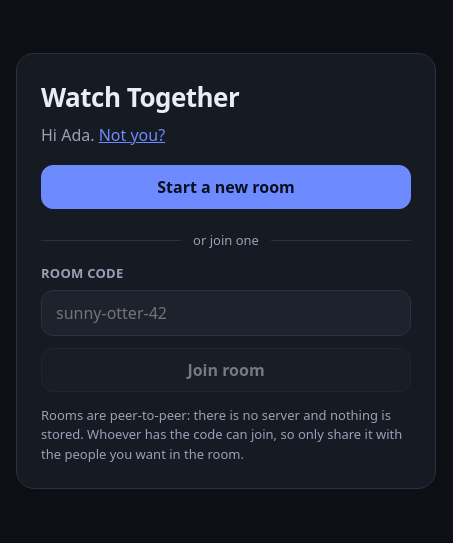
Test: App flow › rejects a malformed room code
Type "xy" into the field labelled "Room code".
click(226, 313); type("xy")  # box [41, 290, 411, 336]
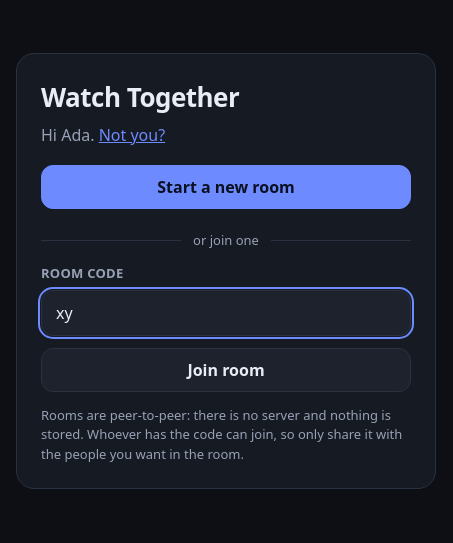
Click the button "Join room".
click(226, 370)  # box [41, 348, 411, 392]
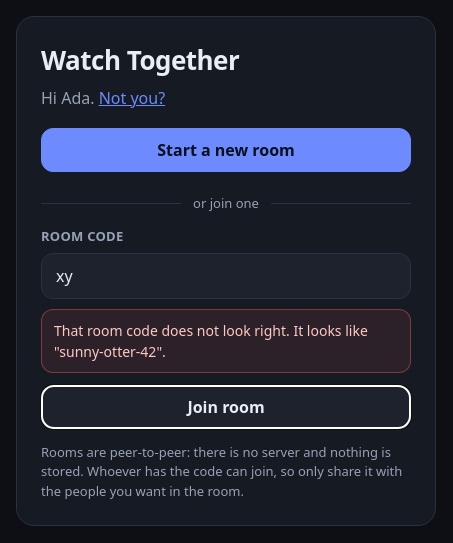
Check: the message shows "does not look right", box [54, 321, 368, 361]
